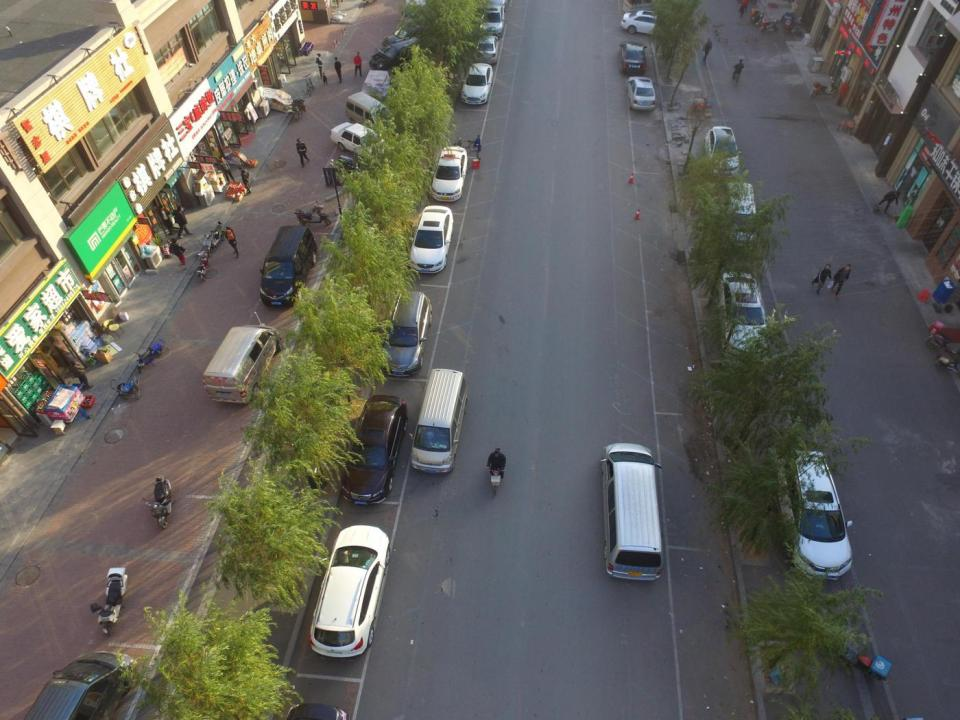car: (308, 523, 391, 664), (774, 448, 854, 583), (20, 649, 138, 720), (338, 394, 408, 507), (716, 269, 770, 365), (380, 290, 434, 378), (407, 204, 454, 274), (722, 180, 758, 253), (702, 125, 741, 180), (430, 146, 468, 202), (330, 121, 386, 158), (620, 8, 681, 40), (368, 36, 422, 71), (381, 17, 434, 52), (460, 61, 494, 106), (625, 75, 657, 112), (619, 39, 648, 76), (480, 2, 505, 39), (473, 34, 499, 65)
van: (599, 442, 664, 582), (408, 367, 469, 475), (202, 323, 282, 404), (258, 224, 317, 309), (344, 90, 393, 132)
